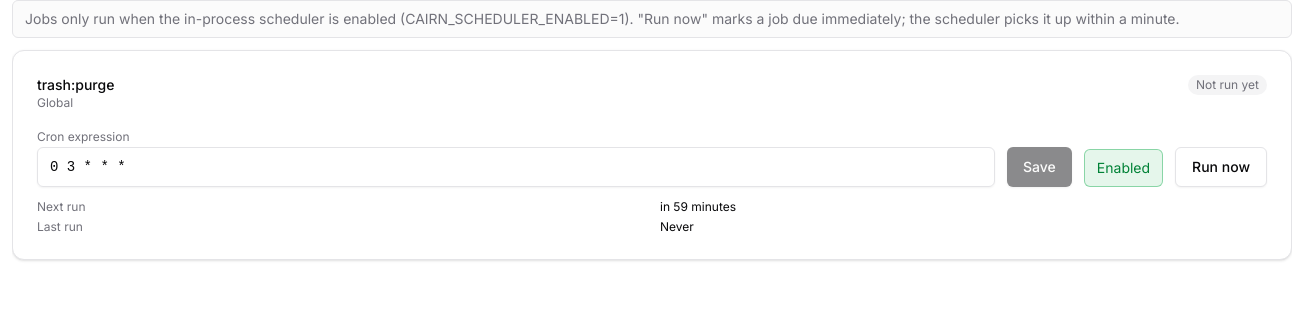
Scenario: SchedulesManager › rolls the toggle back when PATCH fails
Click the switch with test id "schedule-enabled-abc-123" at (1123, 168), box [1084,149,1163,187]
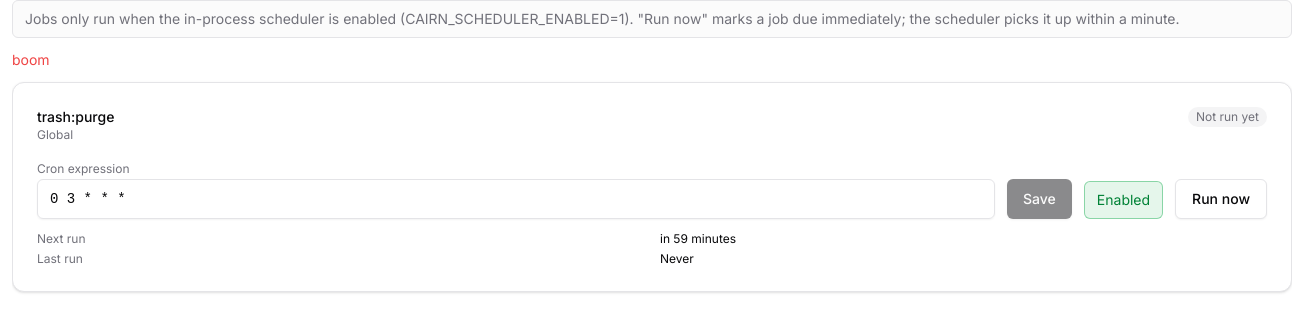
Expected: the message "boom" is shown, [12,51,50,68]
